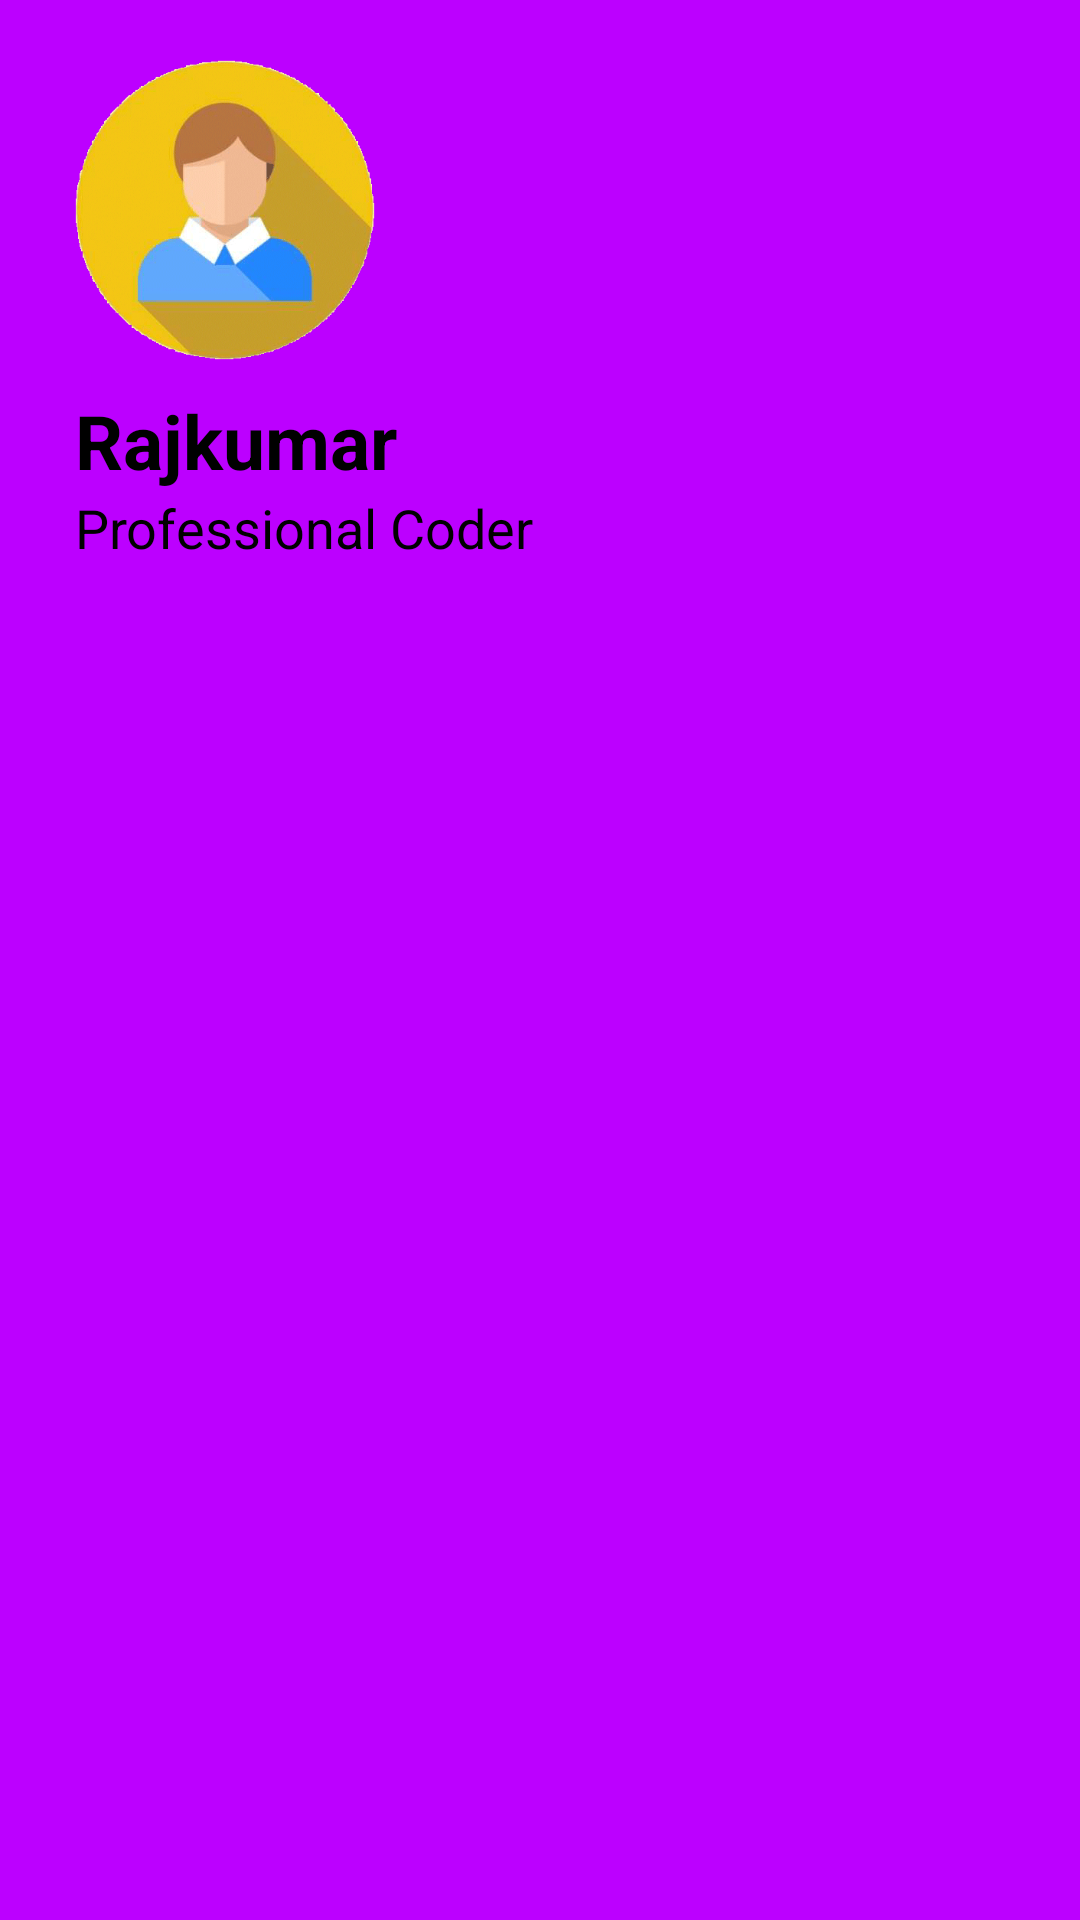

Icon click points for this 1080*1920 phone screenshot, format (x,y):
user: (225,210)
